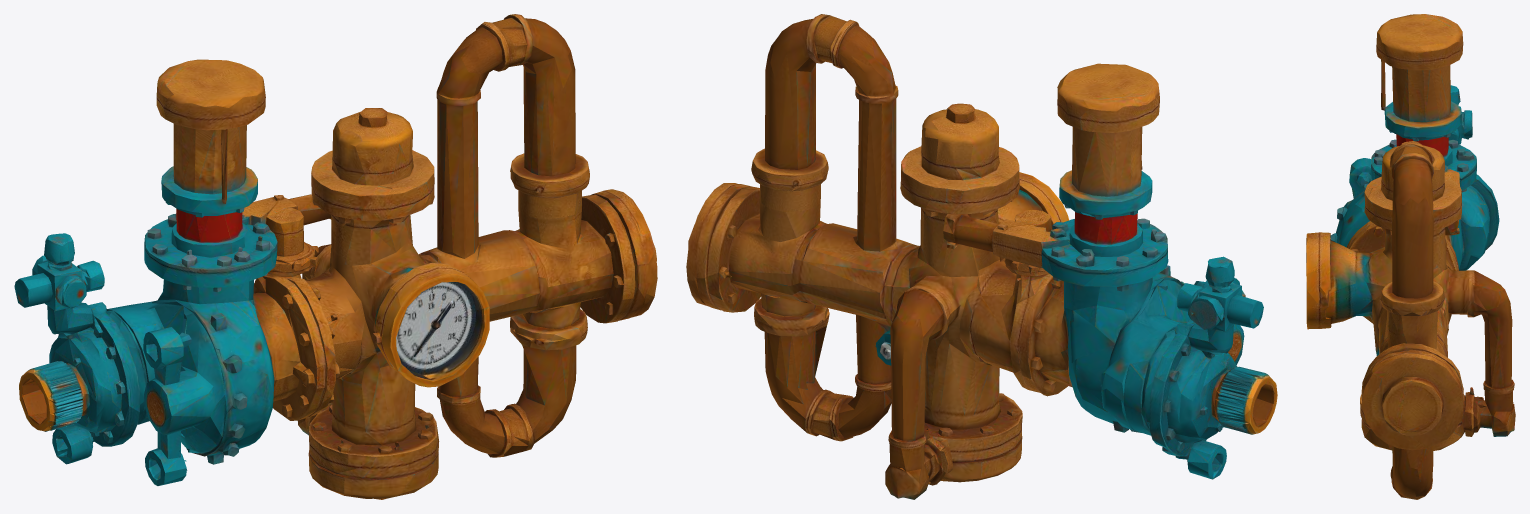
File: pipes.glb
3 renders of one model, left to right at view 1: azimuth 30°, elevation 25°; view 2: azimuth 150°, elevation 25°; view 3: azimuth 270°, elevation 25°, orthographic. The views are drawn at different scales.
Visible parts, largest first — view 1: Mesh_0; view 2: Mesh_0; view 3: Mesh_0.
Part boxes in pixels (left/top/right/bottom): Mesh_0: left=14, top=14, right=657, bottom=499; Mesh_0: left=686, top=14, right=1277, bottom=499; Mesh_0: left=1306, top=14, right=1515, bottom=499.
Bounding box in the file's own units: 1.9 × 1.38 × 0.728.
1 material, 1 textured.
